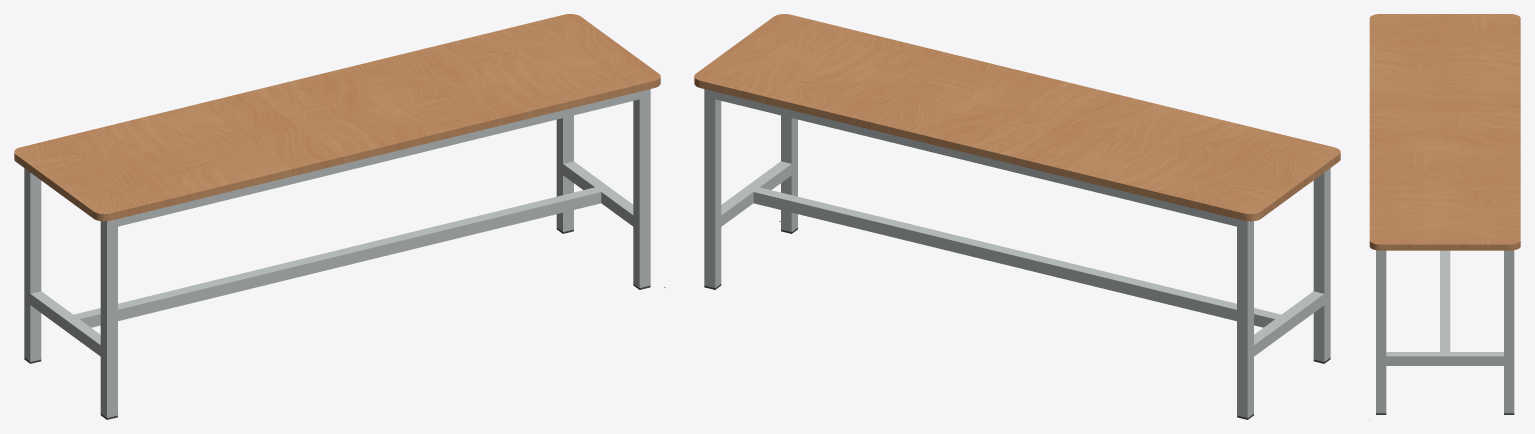
Rendered from banketka_na_metallokarkase_derevo.glb.
The picture shows the model from 3 angles, left to right: view 1: azimuth 30°, elevation 25°; view 2: azimuth 150°, elevation 25°; view 3: azimuth 270°, elevation 25°; orthographic projection. The views are drawn at different scales.
Visible parts, largest first — view 1: Shape_IndexedFaceSet.013, Shape_IndexedFaceSet.006_NON, Shape_IndexedFaceSet.005_NON, Shape_IndexedFaceSet.009_NON, Shape_IndexedFaceSet.012_NON, Shape_IndexedFaceSet.011_NON, Shape_IndexedFaceSet.010_NON, Shape_IndexedFaceSet.007_NON, Shape_IndexedFaceSet.008_NON; view 2: Shape_IndexedFaceSet.013, Shape_IndexedFaceSet.006_NON, Shape_IndexedFaceSet.004_NON, Shape_IndexedFaceSet.010_NON, Shape_IndexedFaceSet.011_NON, Shape_IndexedFaceSet.009_NON, Shape_IndexedFaceSet.007_NON, Shape_IndexedFaceSet.012_NON, Shape_IndexedFaceSet.008_NON; view 3: Shape_IndexedFaceSet.013, Shape_IndexedFaceSet.010_NON, Shape_IndexedFaceSet.012_NON, Shape_IndexedFaceSet.008_NON, Shape_IndexedFaceSet.006_NON.
Boxes of the visible parts, x1,y1,x2,y2 form: Shape_IndexedFaceSet.013: [14, 14, 660, 221]; Shape_IndexedFaceSet.006_NON: [74, 187, 601, 327]; Shape_IndexedFaceSet.005_NON: [118, 91, 639, 226]; Shape_IndexedFaceSet.009_NON: [100, 219, 117, 417]; Shape_IndexedFaceSet.012_NON: [633, 89, 650, 287]; Shape_IndexedFaceSet.011_NON: [24, 168, 41, 361]; Shape_IndexedFaceSet.010_NON: [556, 115, 573, 231]; Shape_IndexedFaceSet.007_NON: [30, 291, 100, 356]; Shape_IndexedFaceSet.008_NON: [563, 161, 633, 226]; Shape_IndexedFaceSet.013: [694, 14, 1340, 221]; Shape_IndexedFaceSet.006_NON: [753, 187, 1280, 327]; Shape_IndexedFaceSet.004_NON: [715, 92, 1236, 226]; Shape_IndexedFaceSet.010_NON: [704, 89, 721, 287]; Shape_IndexedFaceSet.011_NON: [1237, 219, 1253, 417]; Shape_IndexedFaceSet.009_NON: [1313, 168, 1330, 361]; Shape_IndexedFaceSet.007_NON: [1254, 291, 1324, 356]; Shape_IndexedFaceSet.012_NON: [781, 115, 797, 231]; Shape_IndexedFaceSet.008_NON: [721, 161, 791, 226]; Shape_IndexedFaceSet.013: [1369, 14, 1520, 250]; Shape_IndexedFaceSet.010_NON: [1504, 250, 1514, 413]; Shape_IndexedFaceSet.012_NON: [1376, 250, 1386, 413]; Shape_IndexedFaceSet.008_NON: [1386, 352, 1503, 365]; Shape_IndexedFaceSet.006_NON: [1440, 250, 1450, 351].
Bounding box in the file's own units: 1301 × 461 × 361.
21 materials, 20 textured.
